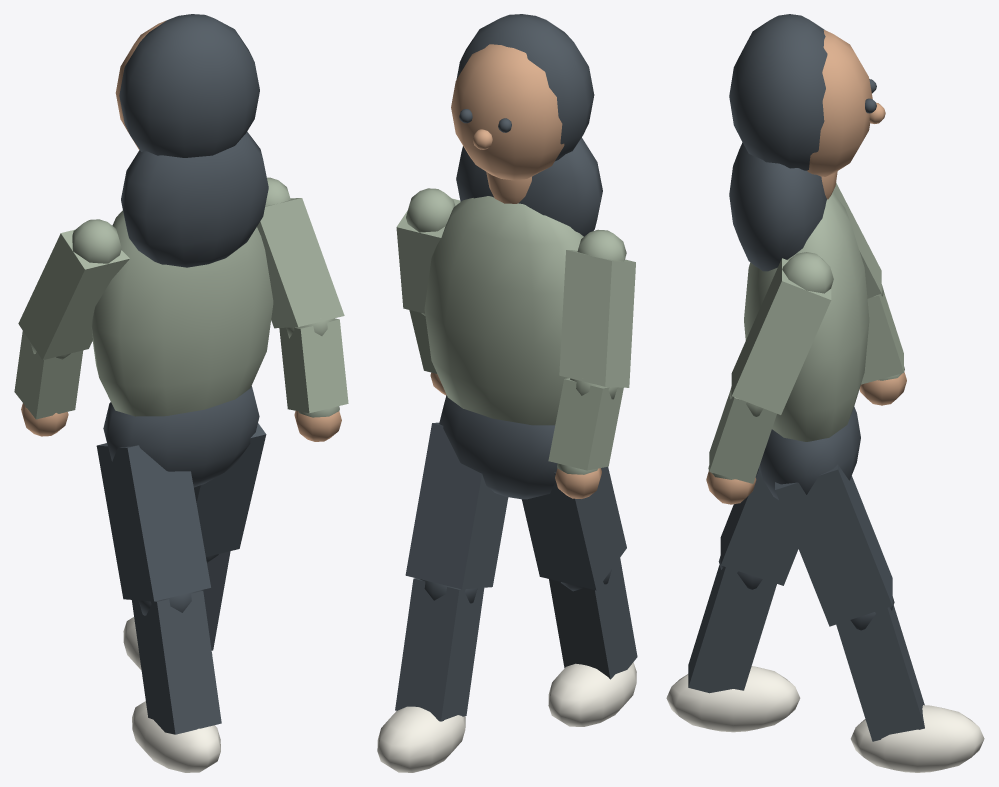
The model's file is person-warga-step-a.glb.
3 renders of one model, left to right at view 1: azimuth 30°, elevation 25°; view 2: azimuth 150°, elevation 25°; view 3: azimuth 270°, elevation 25°, orthographic. The views are drawn at different scales.
Parts seen in each view (by area): view 1: person-warga-step-a; view 2: person-warga-step-a; view 3: person-warga-step-a.
Part boxes in pixels (<box>): person-warga-step-a: <box>14,14,348,772</box>; person-warga-step-a: <box>377,14,637,772</box>; person-warga-step-a: <box>666,14,984,772</box>.
Bounding box in the file's own units: 0.71 × 1.92 × 0.76.
